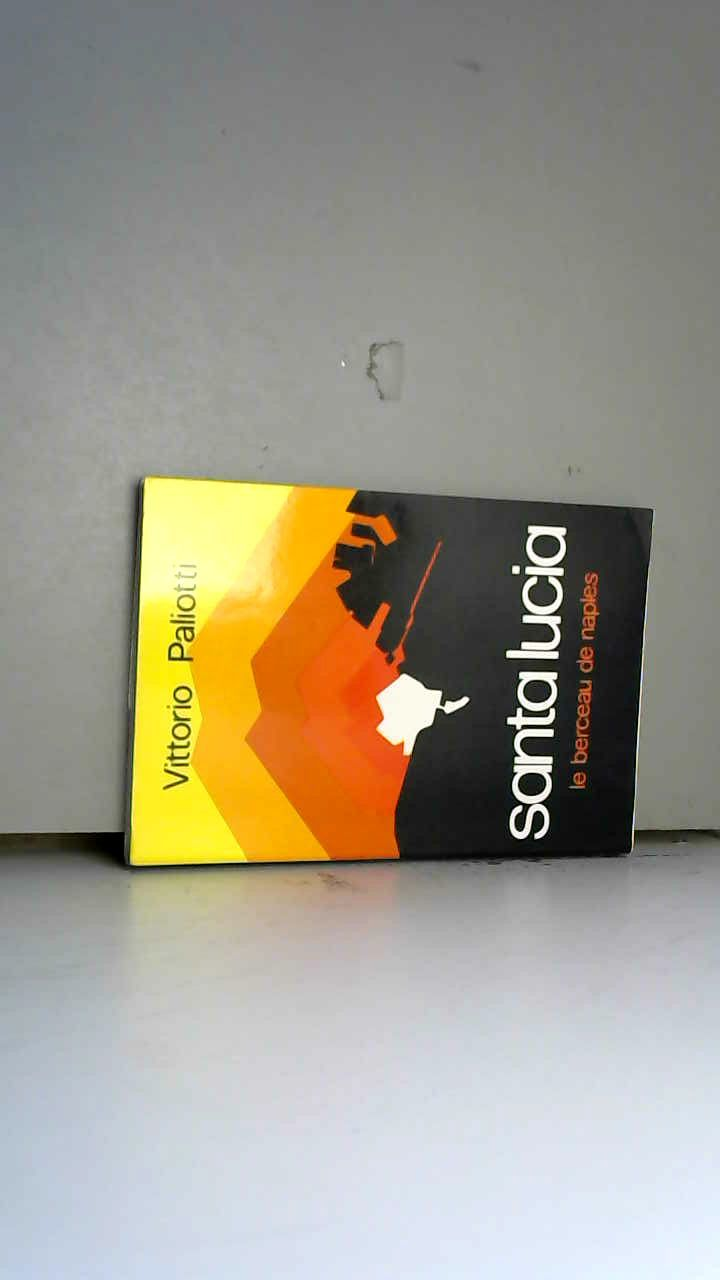book: (106, 456, 669, 897)
